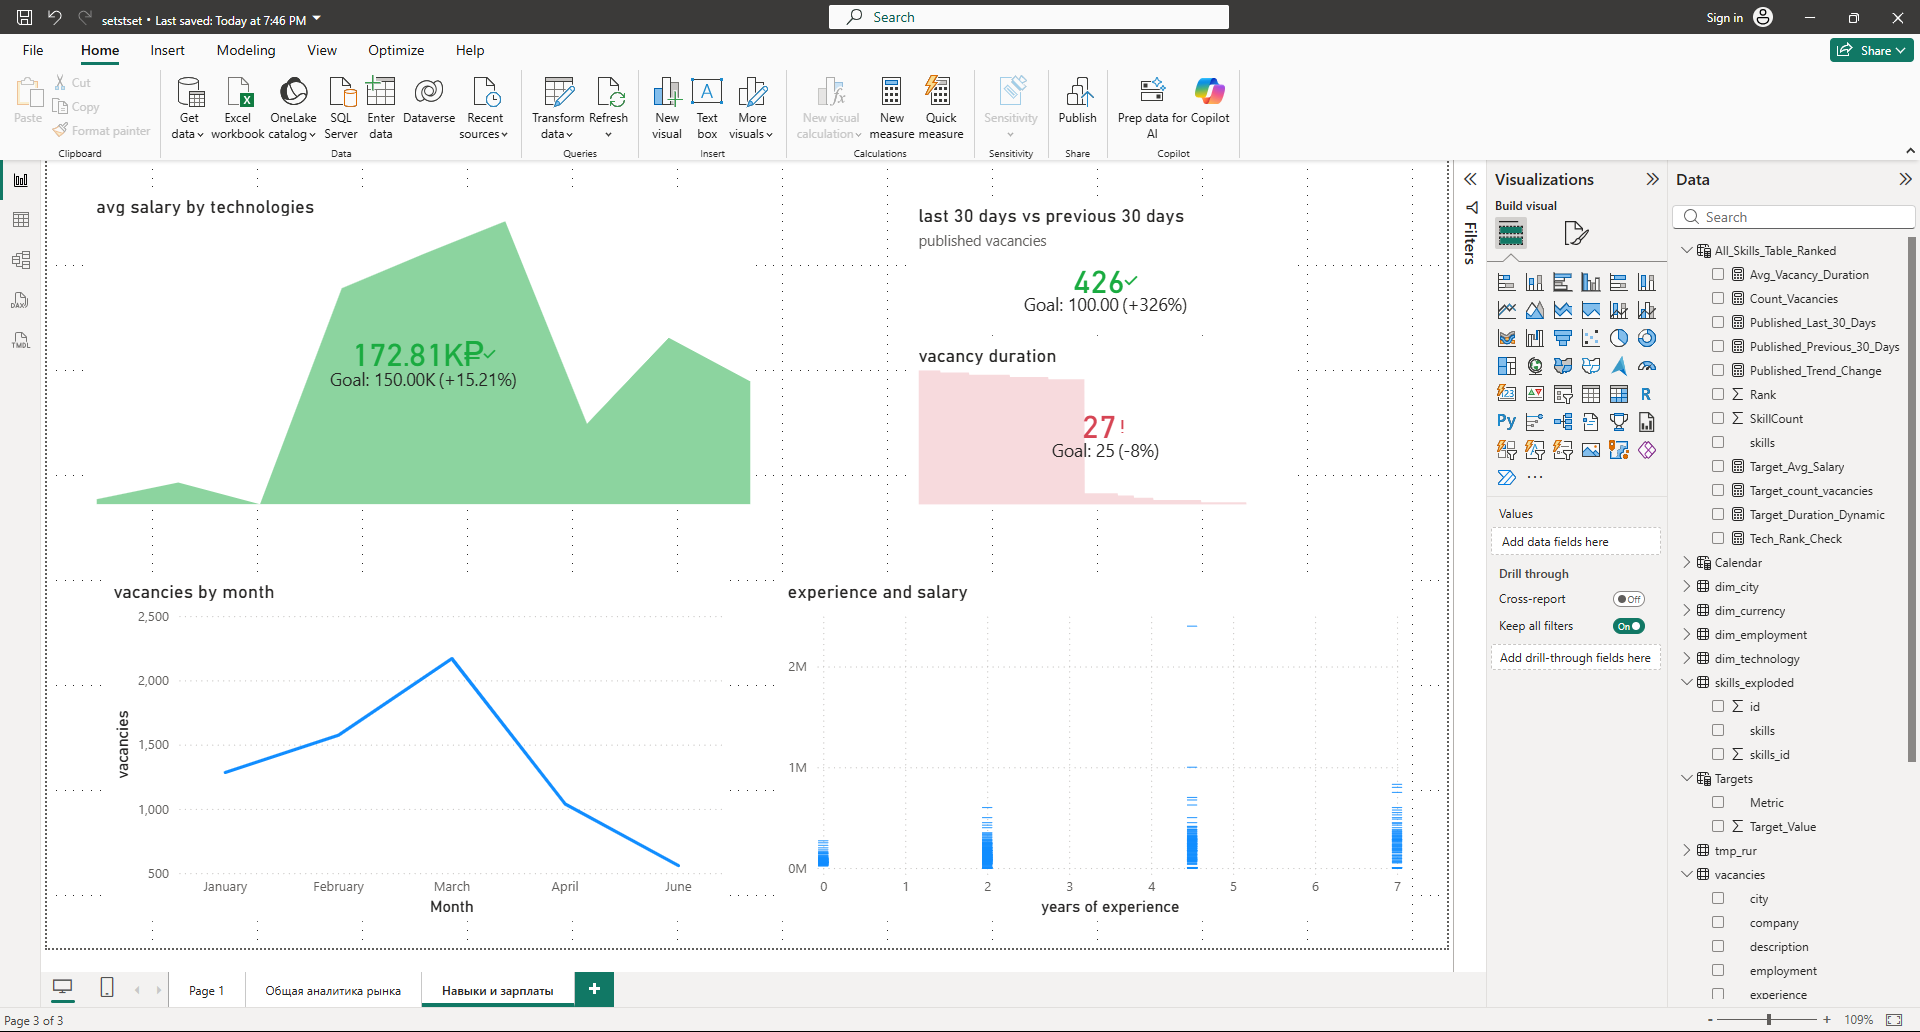

The page's visual inventory and layout, read from the dashboard file:
{"tool":"powerbi","page":{"name":"Навыки и зарплаты","canvas":[1280,720],"ordinal":2},"visuals":[{"type":"scatterChart","title":"experience and salary","fields":{"X":["vacancies.experience_numeric"],"Y":["vacancies.salary_rub"]},"box":[672,384,576,312],"z":0},{"type":"lineChart","title":"vacancies by month","fields":{"Category":["vacancies.published.Variation.Date Hierarchy.Month","vacancies.published.Variation.Date Hierarchy.Day"],"Y":["CountNonNull(vacancies.id)"]},"box":[56,384,568,312],"z":1},{"type":"kpi","title":"avg salary by technologies","fields":{"TrendLine":["vacancies.technology"],"Goal":["All_Skills_Table_Ranked.Target_Avg_Salary"],"Indicator":["Avg(vacancies.salary_rub)"]},"box":[40,32,608,288],"z":2},{"type":"kpi","title":"last 30 days vs previous 30 days","fields":{"Indicator":["All_Skills_Table_Ranked.Published_Last_30_Days"],"Goal":["All_Skills_Table_Ranked.Target_count_vacancies"],"TrendLine":["vacancies.published"]},"box":[792,40,352,120],"z":3},{"type":"kpi","title":"vacancy duration","fields":{"Indicator":["All_Skills_Table_Ranked.Avg_Vacancy_Duration"],"TrendLine":["vacancies.published"],"Goal":["All_Skills_Table_Ranked.Target_Duration_Dynamic"]},"box":[792,168,352,152],"z":4}]}

Visuals, with their boxes on the page's 1280x720 design canvas (x1, y1, x2, y2). These are canvas units, not pixel positions in the 1920x1032 screenshot, which may show the page scaled, cropped or inside an application window:
"experience and salary" scatterChart: rect(672, 384, 1248, 696)
"vacancies by month" lineChart: rect(56, 384, 624, 696)
"avg salary by technologies" kpi: rect(40, 32, 648, 320)
"last 30 days vs previous 30 days" kpi: rect(792, 40, 1144, 160)
"vacancy duration" kpi: rect(792, 168, 1144, 320)
